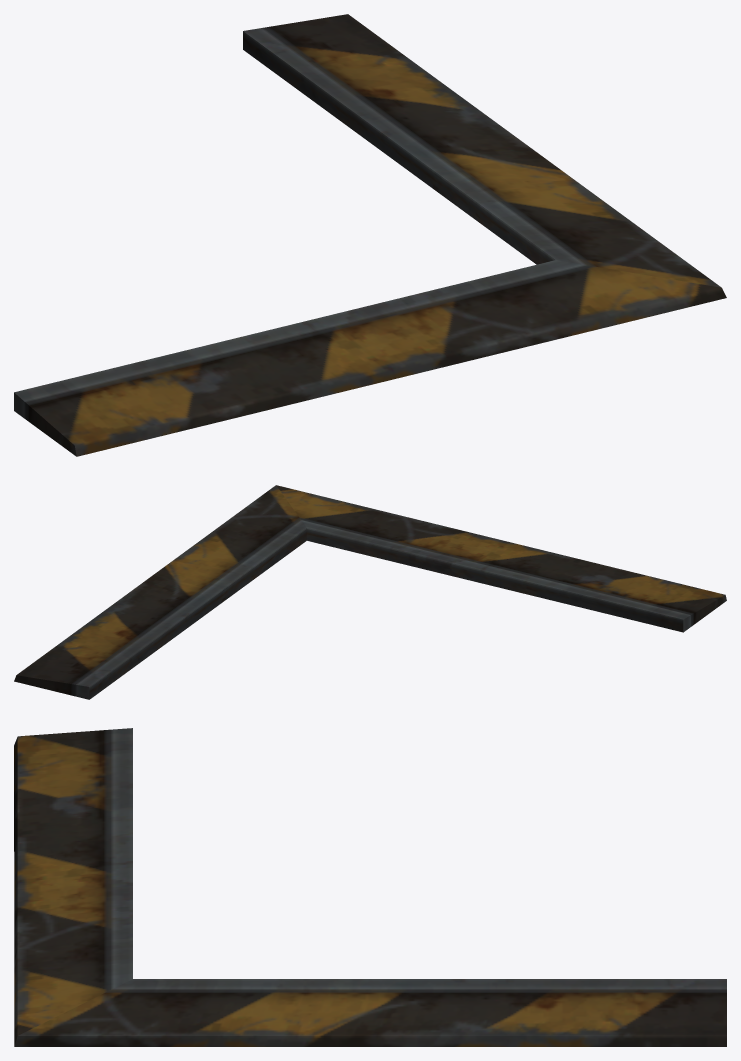
File: Stage-gongchang-tie4.FBX
3 renders of one model, top to bottom at view 1: azimuth 30°, elevation 25°; view 2: azimuth 150°, elevation 25°; view 3: azimuth 270°, elevation 25°, orthographic. The views are drawn at different scales.
Parts seen in each view (by area): view 1: Box473; view 2: Box473; view 3: Box473.
Part boxes in pixels (x1,y1,x2,y2): Box473: (14, 14, 726, 456); Box473: (14, 485, 726, 699); Box473: (14, 728, 726, 1046).
Size of the model in its own units: 6.21 by 6.21 by 0.1698.
